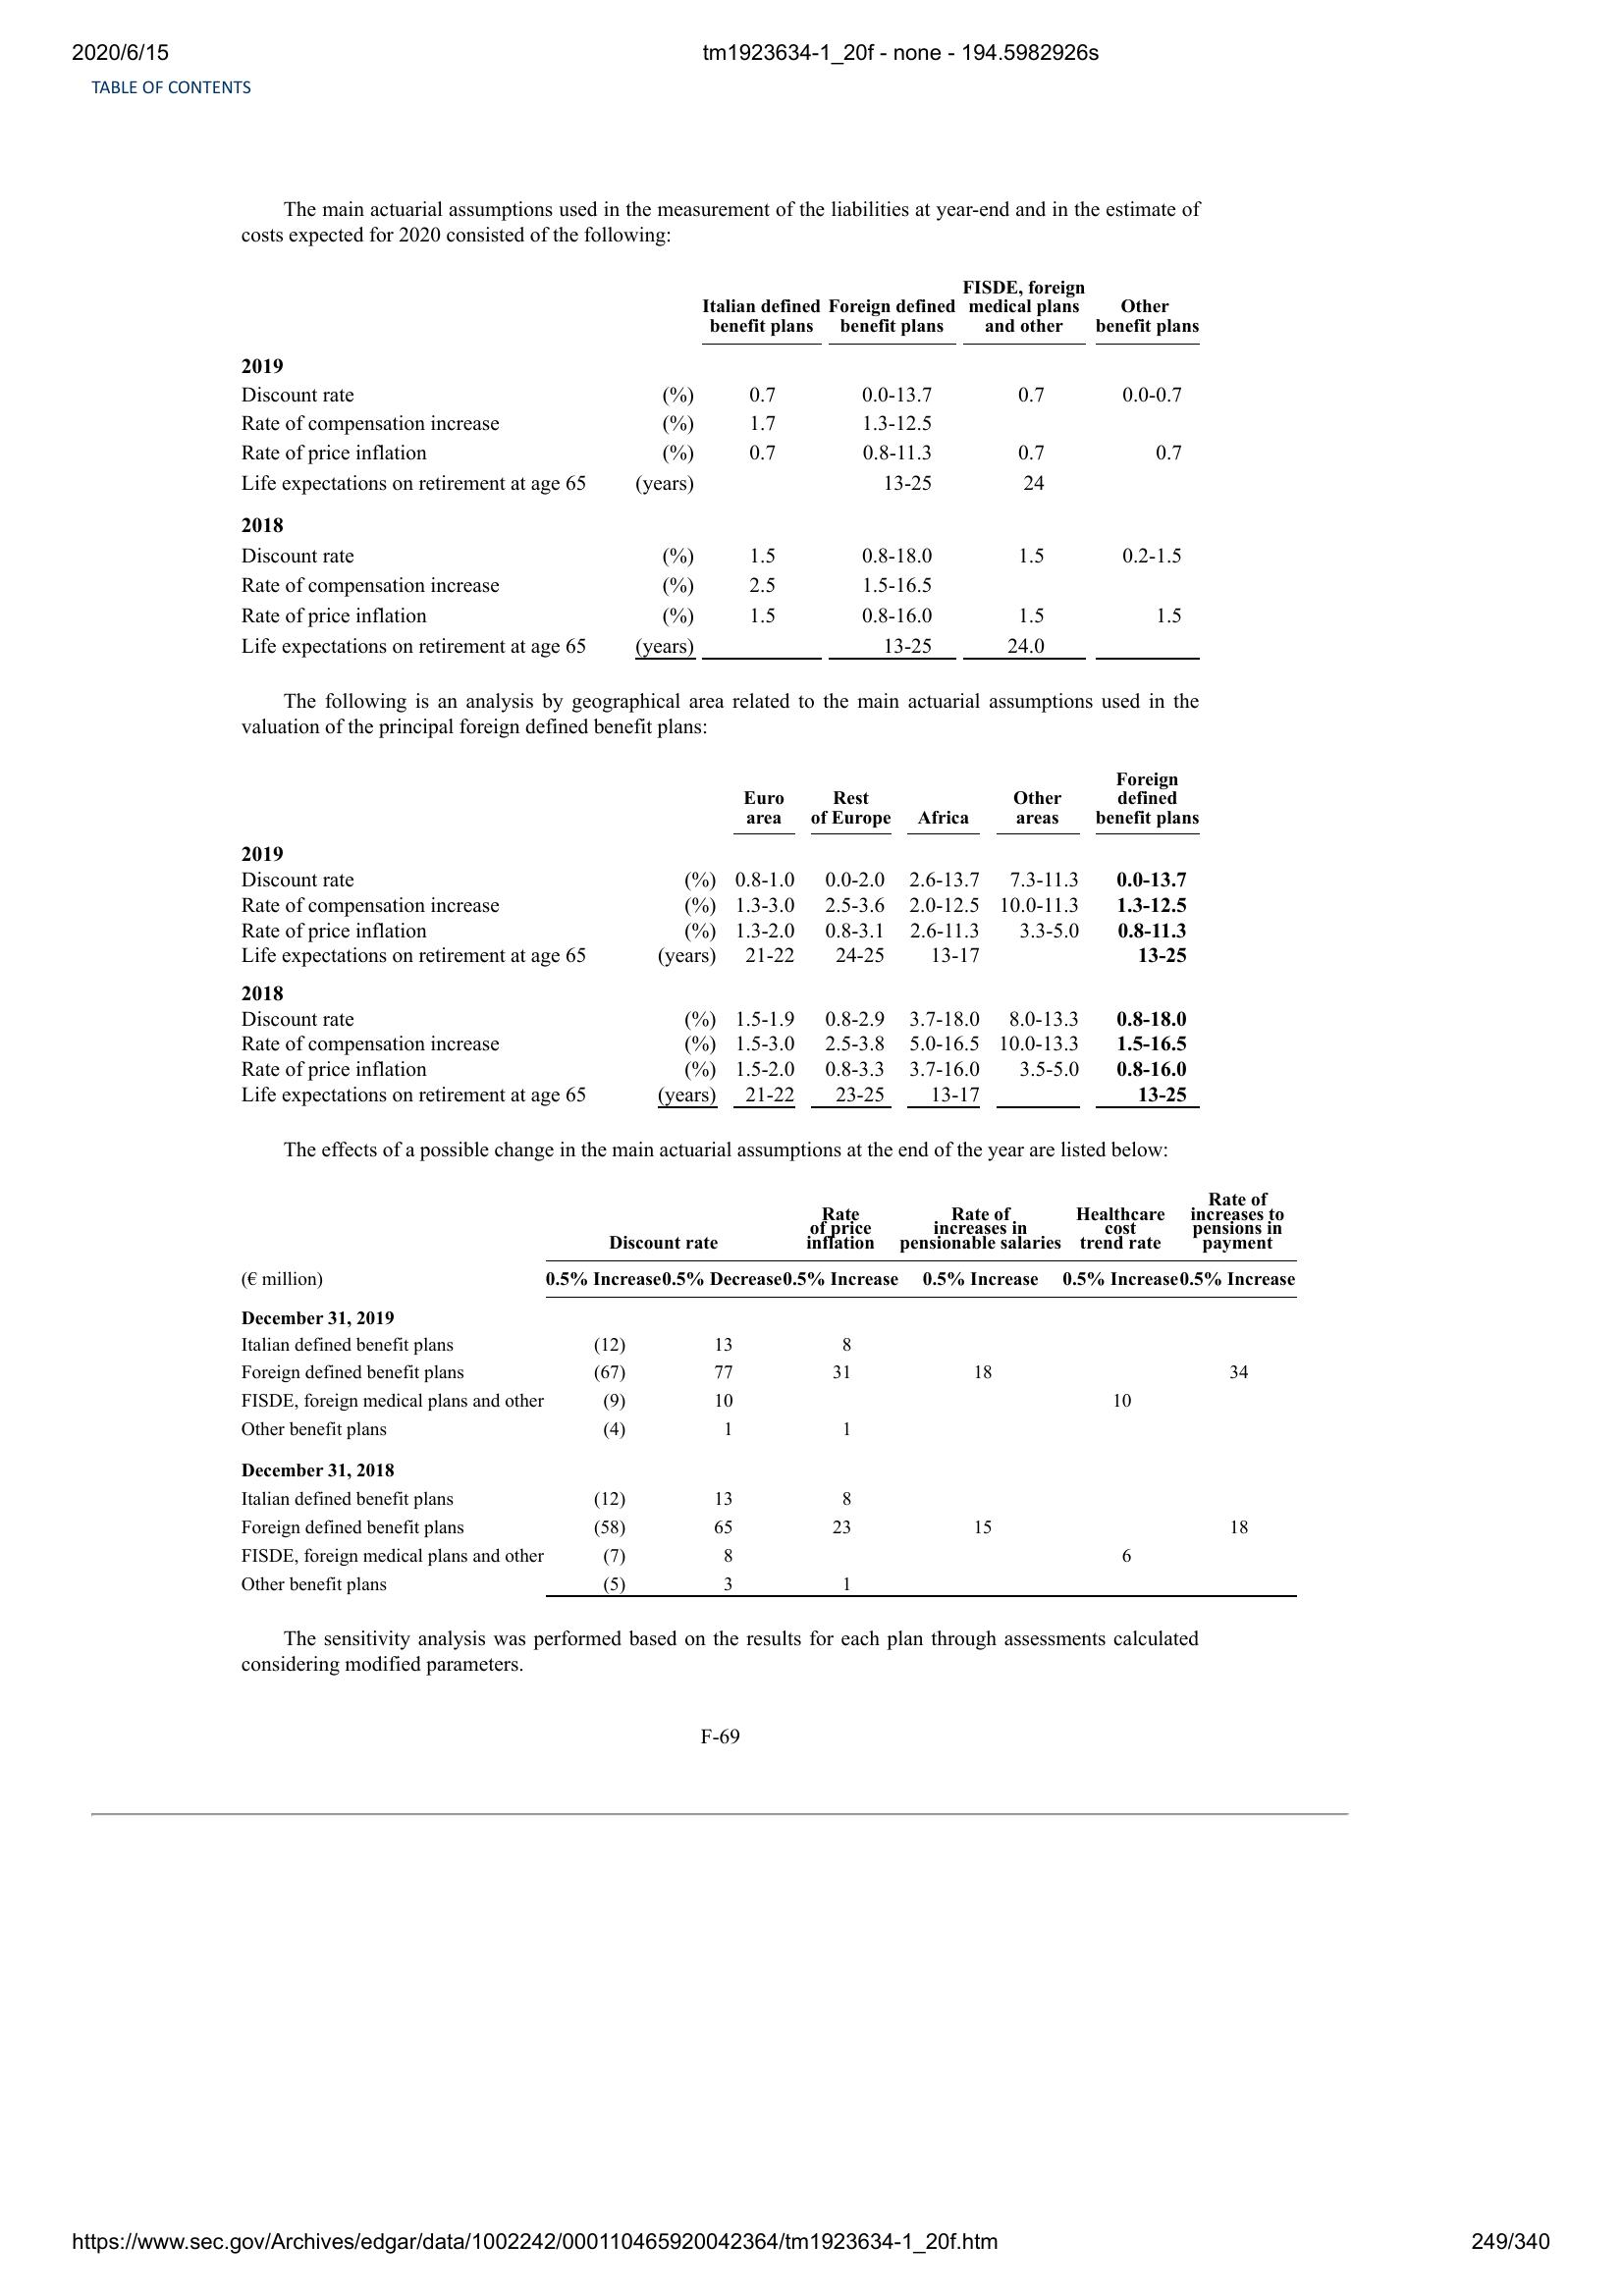table: (232, 1187, 1303, 1610), (232, 276, 1210, 665), (234, 767, 1203, 1115)
